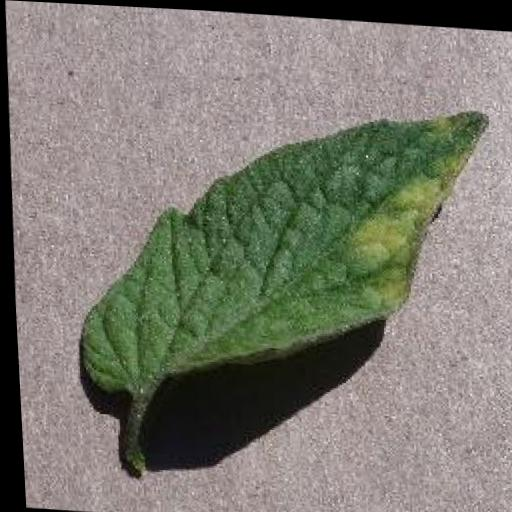Leaf Mold: (63, 76, 498, 415)
